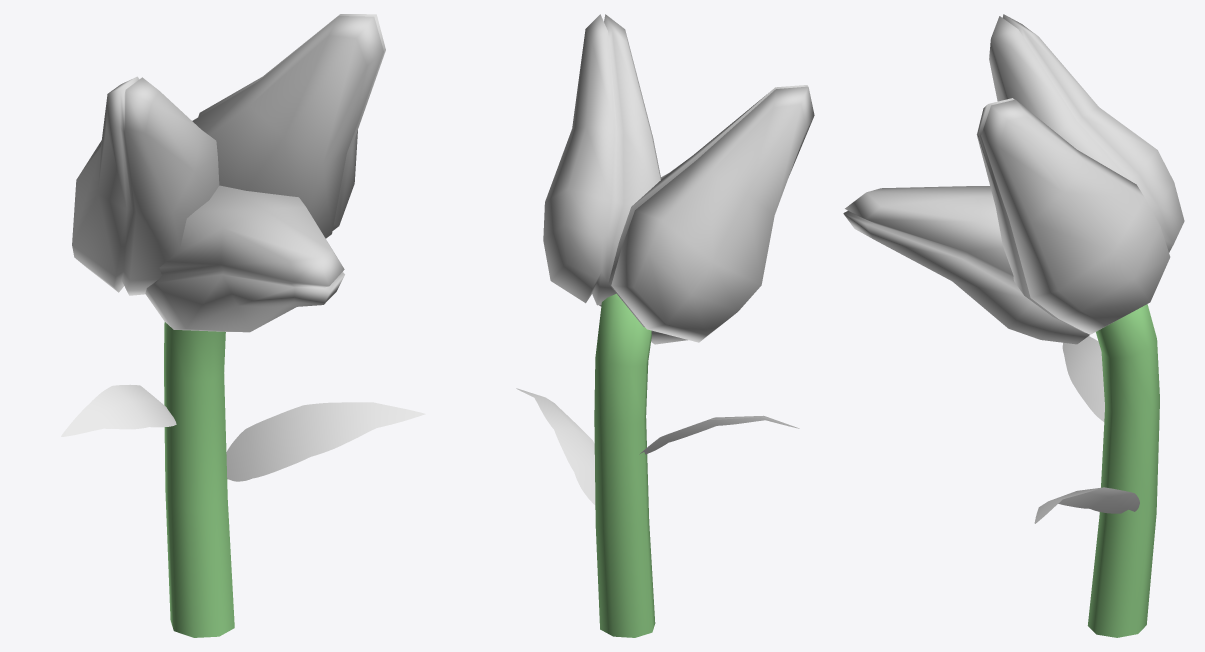
File: ThriPod.fbx
3 views of the same model, side by side, from view 1: azimuth 30°, elevation 25°; view 2: azimuth 150°, elevation 25°; view 3: azimuth 270°, elevation 25° (orthographic). The views are drawn at different scales.
Visible parts, largest first — view 1: Thri-Pod_Item_LOD0, Thri-Pod_Base_LOD0; view 2: Thri-Pod_Item_LOD0, Thri-Pod_Base_LOD0; view 3: Thri-Pod_Item_LOD0, Thri-Pod_Base_LOD0.
Part boxes in pixels (<box>): Thri-Pod_Item_LOD0: <box>72,14,385,332</box>; Thri-Pod_Base_LOD0: <box>61,322,425,637</box>; Thri-Pod_Item_LOD0: <box>543,14,814,344</box>; Thri-Pod_Base_LOD0: <box>516,293,799,637</box>; Thri-Pod_Item_LOD0: <box>843,14,1184,344</box>; Thri-Pod_Base_LOD0: <box>1034,304,1159,637</box>.
Size of what is drawn, in the model's own units: 0.3424 by 0.5281 by 0.2945.
